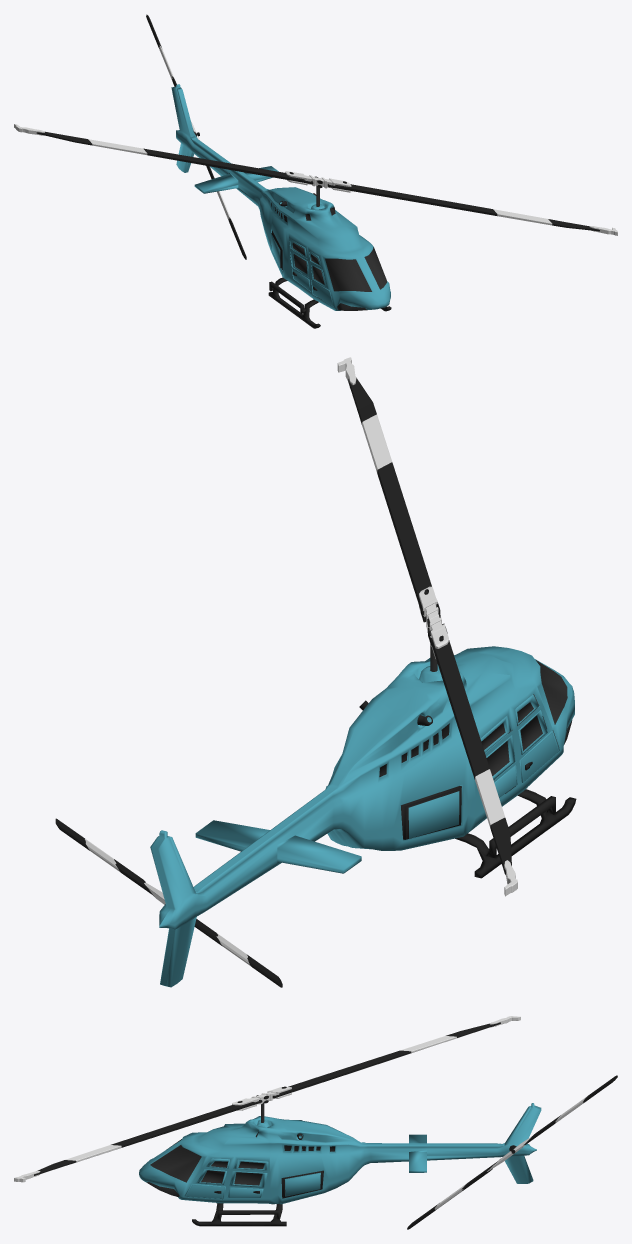
Rendered from heli.glb.
3 views of the same model, one above another, from view 1: azimuth 30°, elevation 25°; view 2: azimuth 150°, elevation 25°; view 3: azimuth 270°, elevation 25° (orthographic). The views are drawn at different scales.
Parts seen in each view (by area): view 1: body_helicopter, baling baling_1, baling-baling_2; view 2: body_helicopter, baling baling_1, baling-baling_2; view 3: body_helicopter, baling baling_1, baling-baling_2.
Boxes of the visible parts, x1=… form: body_helicopter: x1=171, y1=84, x2=391, y2=328; baling baling_1: x1=14, y1=124, x2=617, y2=235; baling-baling_2: x1=146, y1=14, x2=246, y2=259; body_helicopter: x1=150, y1=644, x2=576, y2=987; baling baling_1: x1=337, y1=357, x2=517, y2=896; baling-baling_2: x1=55, y1=818, x2=282, y2=987; body_helicopter: x1=139, y1=1102, x2=541, y2=1226; baling baling_1: x1=14, y1=1016, x2=520, y2=1182; baling-baling_2: x1=407, y1=1075, x2=617, y2=1229.
Bounding box in the file's own units: 17.28 × 7.87 × 27.1.
